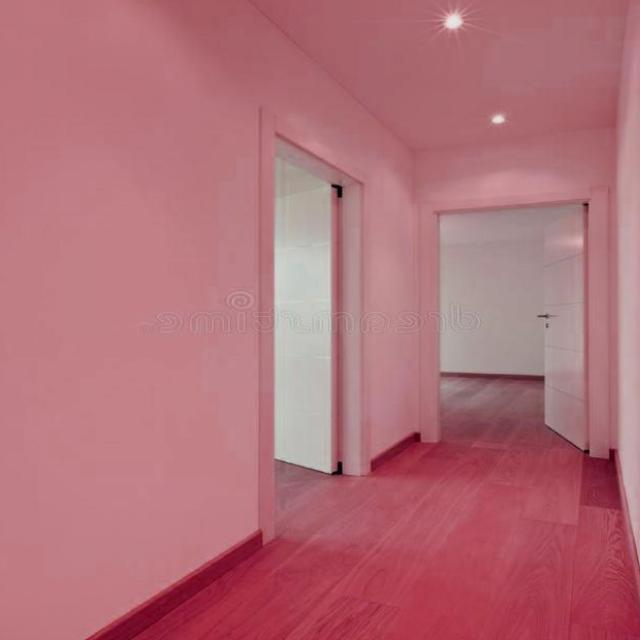door: (536, 218, 590, 457)
